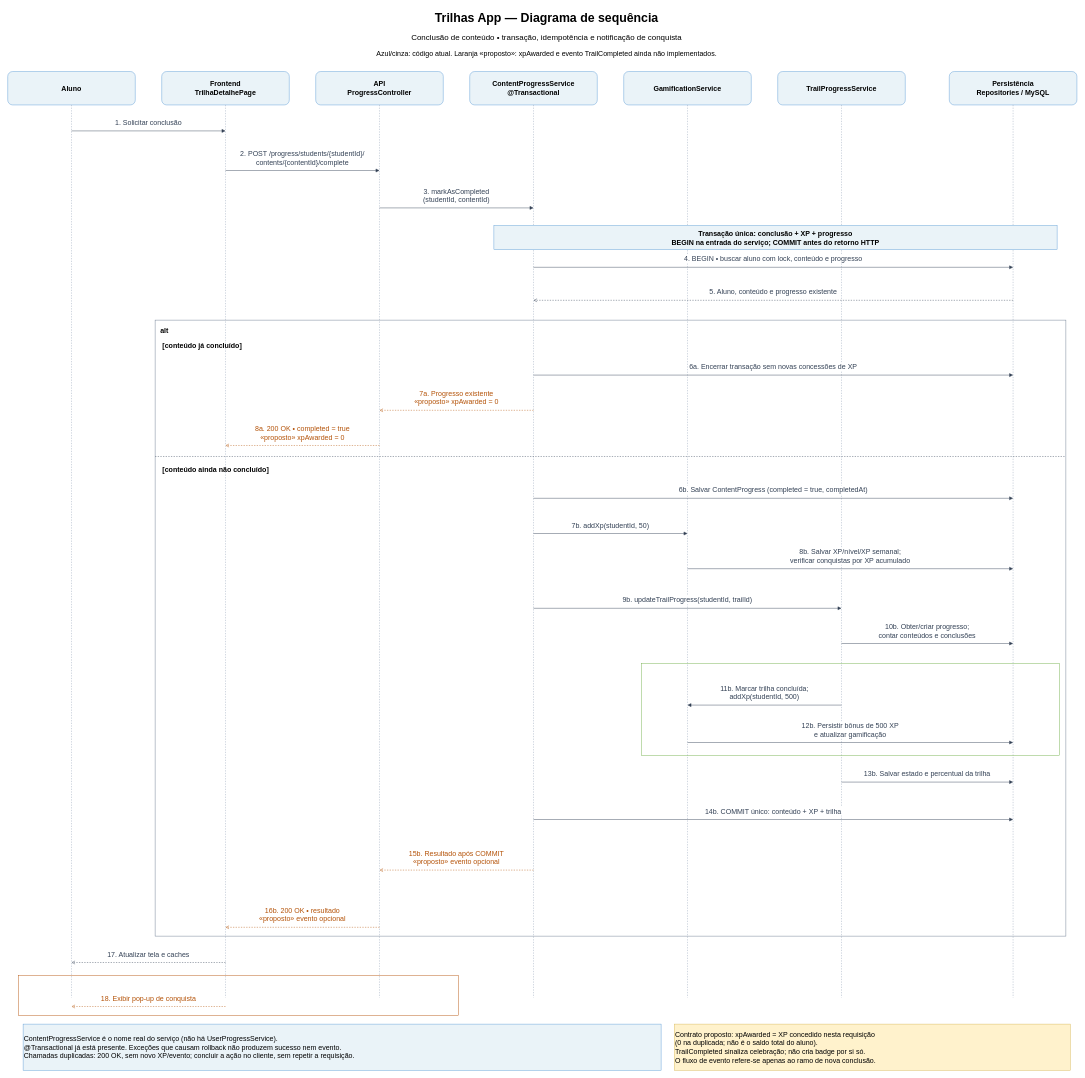
The diagram is 1085 pixels wide and 1078 high, and some of its shapes have lost their labels. The centre of each missing label's shape, as x and y in pixels:
"opt [percentual ≥ 100 e trilha ainda não concluída]" goes at point 850,709.
"opt «proposto» [resposta contém TrailCompleted]" goes at point 238,995.
